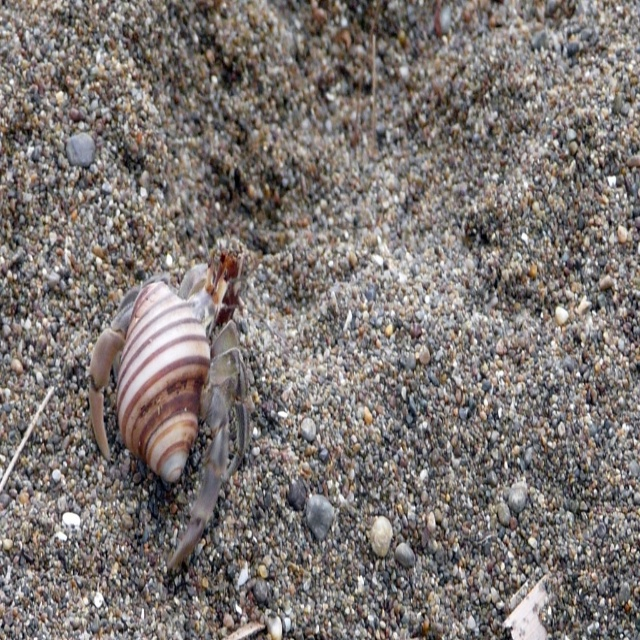Snail: (115, 276, 206, 485)
